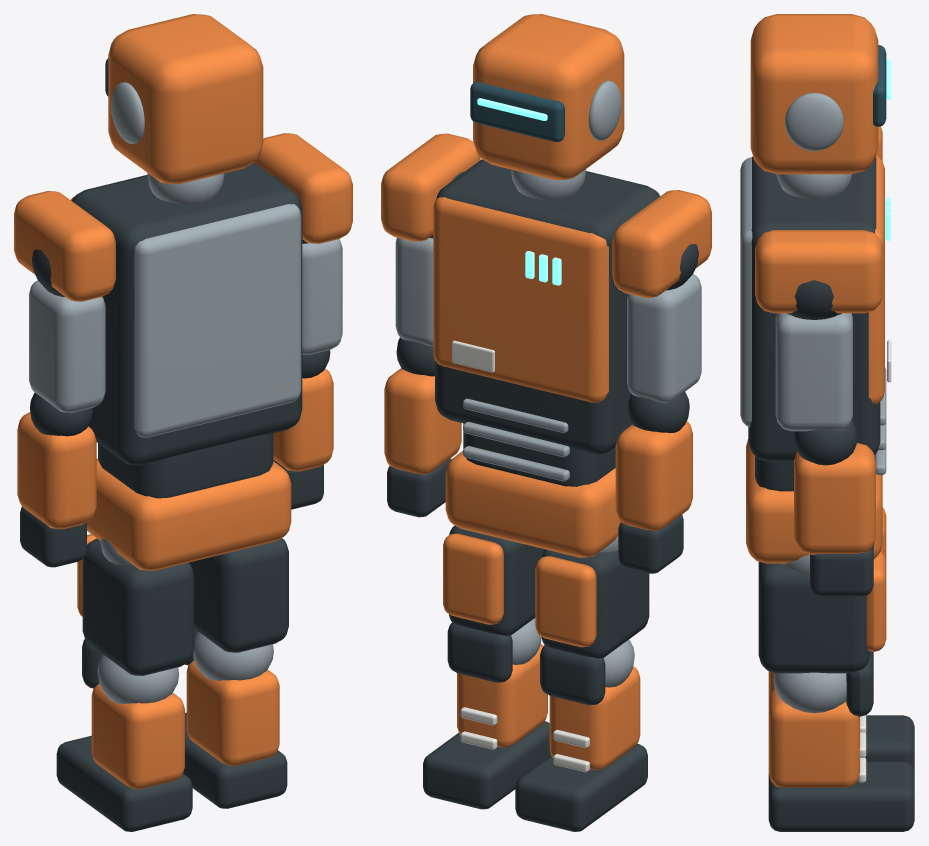
The model's file is sentinel.glb.
3 renders of one model, left to right at view 1: azimuth 30°, elevation 25°; view 2: azimuth 150°, elevation 25°; view 3: azimuth 270°, elevation 25°, orthographic. The views are drawn at different scales.
Visible parts, largest first — view 1: Back_Plate, Head_Shell, Chest_Core, Hip_Block, Thigh_-1, Thigh_1, Upper_Arm_-1, Shoulder_Cap_-1, Lower_Leg_1, Lower_Leg_-1, Forearm_-1, Boot_-1 (+14 smaller); view 2: Chest_Plate, Chest_Core, Head_Shell, Hip_Block, Upper_Arm_-1, Shoulder_Cap_-1, Forearm_-1, Boot_-1, Boot_1, Shoulder_Cap_1, Forearm_1, Lower_Leg_-1 (+23 smaller); view 3: Head_Shell, Chest_Core, Thigh_1, Shoulder_Cap_1, Upper_Arm_1, Boot_1, Forearm_1, Lower_Leg_1, Hip_Block, Back_Plate, Ear_Module_1, Closed_Hand_1 (+10 smaller).
Part boxes in pixels (x1,y1,x2,y2): Back_Plate: (134,204,301,437); Head_Shell: (108,14,263,184); Chest_Core: (72,163,302,465); Hip_Block: (87,458,291,570); Thigh_-1: (82,538,194,675); Thigh_1: (189,538,288,652); Upper_Arm_-1: (29,280,105,412); Shoulder_Cap_-1: (14,191,115,301); Lower_Leg_1: (186,660,279,765); Lower_Leg_-1: (91,683,184,789); Forearm_-1: (17,412,96,529); Boot_-1: (56,735,192,831); Chest_Plate: (433,197,608,402); Chest_Core: (435,159,659,454); Head_Shell: (473,14,624,180); Hip_Block: (445,451,620,557); Upper_Arm_-1: (627,274,701,402); Shoulder_Cap_-1: (612,190,711,297); Forearm_-1: (615,421,692,530); Boot_-1: (515,744,647,831); Boot_1: (423,721,550,809); Shoulder_Cap_1: (381,133,480,241); Forearm_1: (384,368,461,474); Lower_Leg_-1: (549,666,640,770); Head_Shell: (750,14,878,174); Chest_Core: (748,156,880,461); Thigh_1: (758,562,870,673); Shoulder_Cap_1: (755,230,882,313); Upper_Arm_1: (775,313,852,431); Boot_1: (768,761,914,831); Forearm_1: (794,443,875,554); Lower_Leg_1: (768,688,859,787); Hip_Block: (746,439,882,563); Back_Plate: (740,157,752,426); Ear_Module_1: (784,93,843,151); Closed_Hand_1: (810,545,873,596).
Size of the model in its own units: 0.75 by 1.85 by 0.3825.
